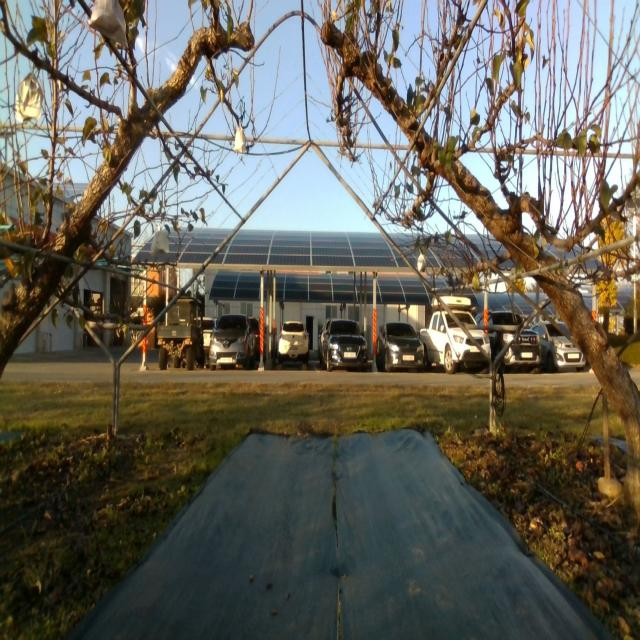pearbags: (88, 0, 128, 50), (16, 72, 42, 122), (151, 231, 169, 254), (234, 126, 246, 154)
